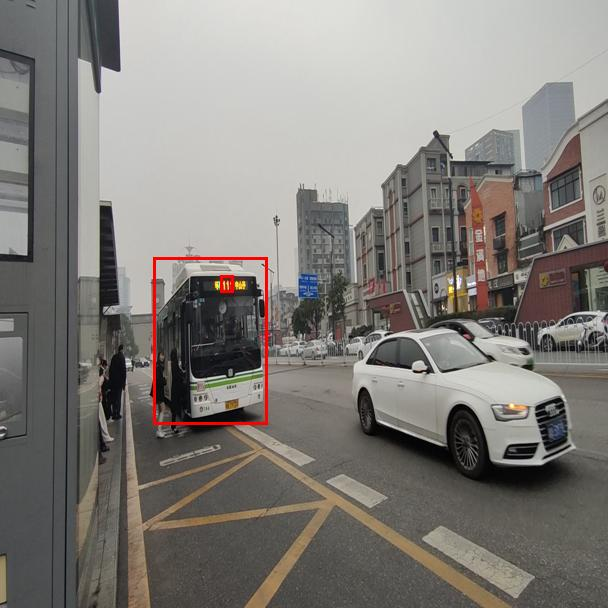bus: (153, 257, 267, 424)
screen: (220, 275, 233, 292)
